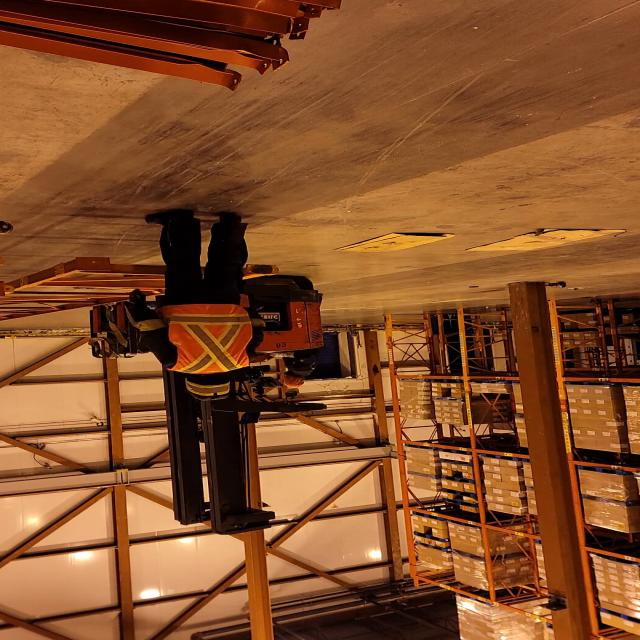forklift: (72, 269, 328, 526)
human: (119, 209, 264, 405), (260, 332, 328, 401)
objectofinterest: (0, 254, 284, 324), (466, 225, 634, 254), (330, 232, 456, 252)
